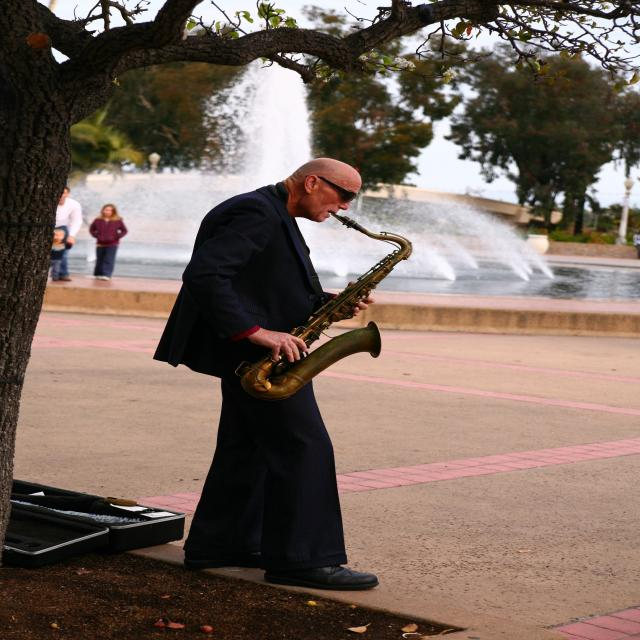saxophone: (238, 210, 414, 405)
